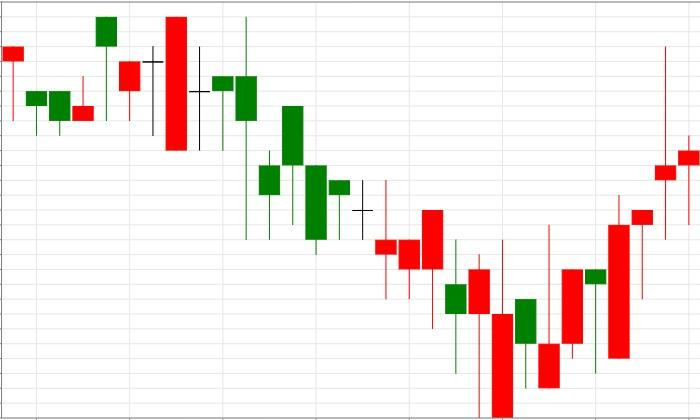hanging_man_fall: (537, 224, 607, 389), (25, 16, 118, 136)
inverse_hammer_rise: (164, 16, 561, 418)
